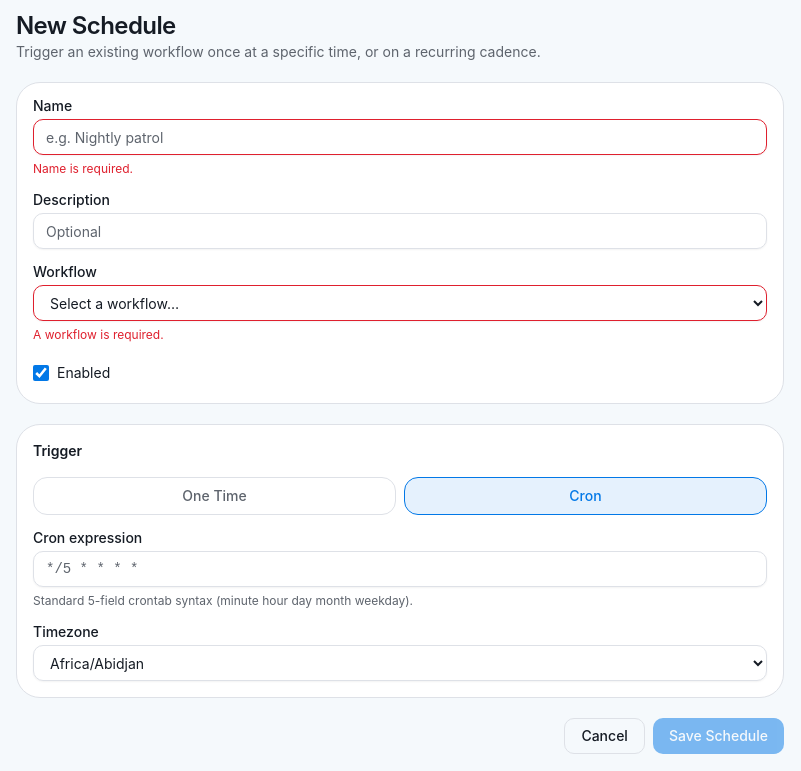
Test: ScheduleEditorPage › switches to the one-time date/time input when One Time is selected
What coordinates should you click on to do the following:
click the button "One Time"
I would click on:
 (214, 496)
Its box is x1=33 y1=477 x2=396 y2=515.
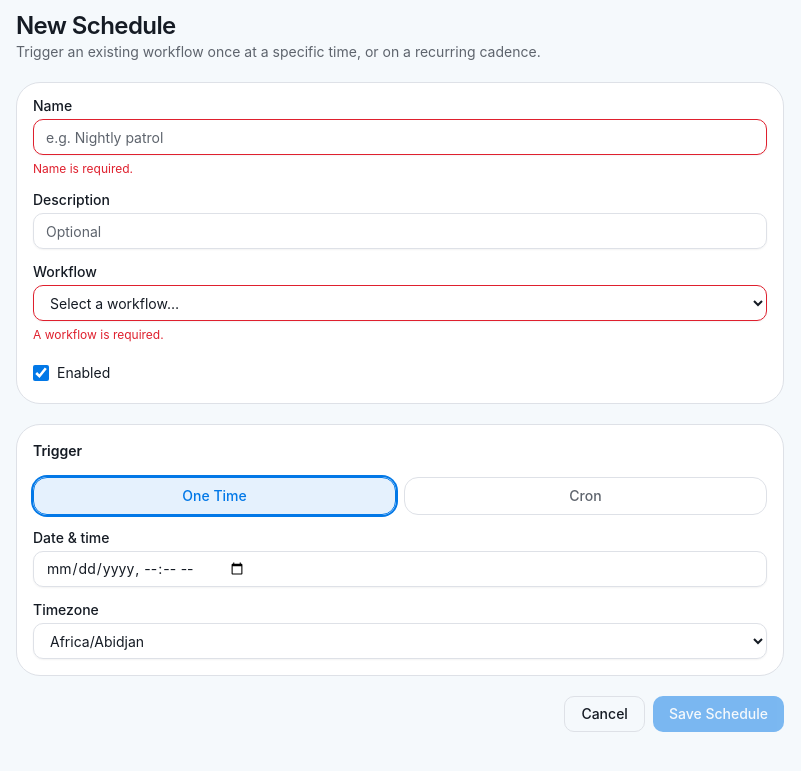
Expected: the field labelled "Date & time" is shown, x1=33 y1=551 x2=767 y2=587
Expected: the label labelled "Cron expression" is gone
